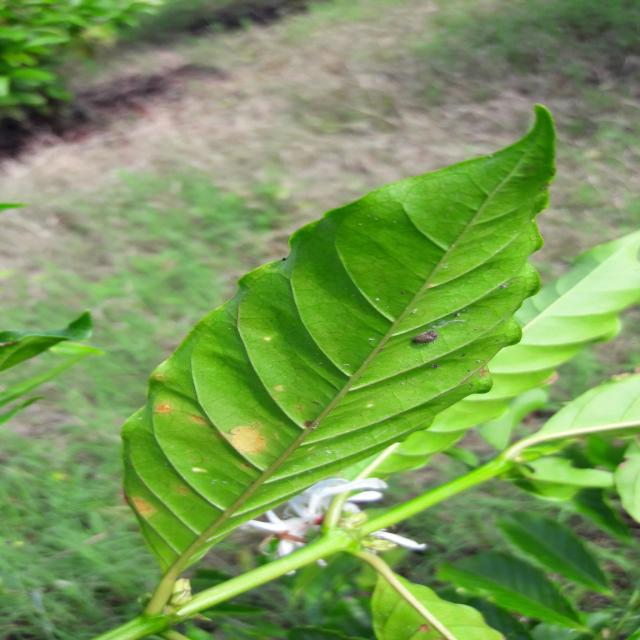Enfermedad-Roya: (121, 106, 557, 618)
